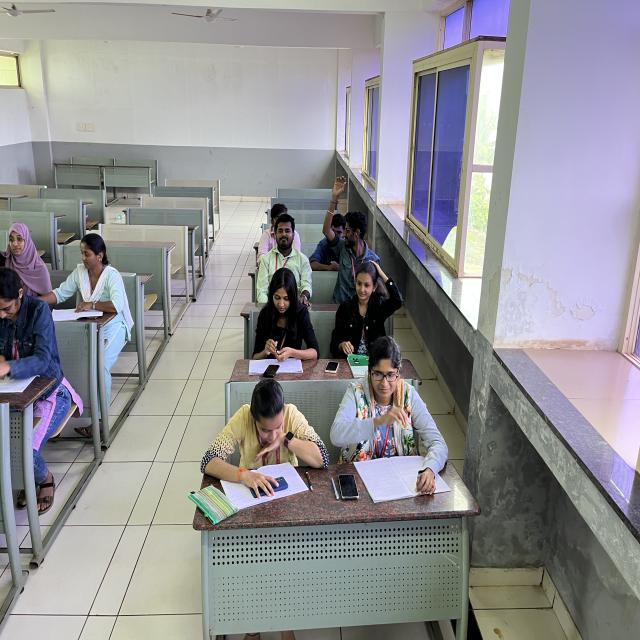Hand Rising: (322, 160, 380, 274)
